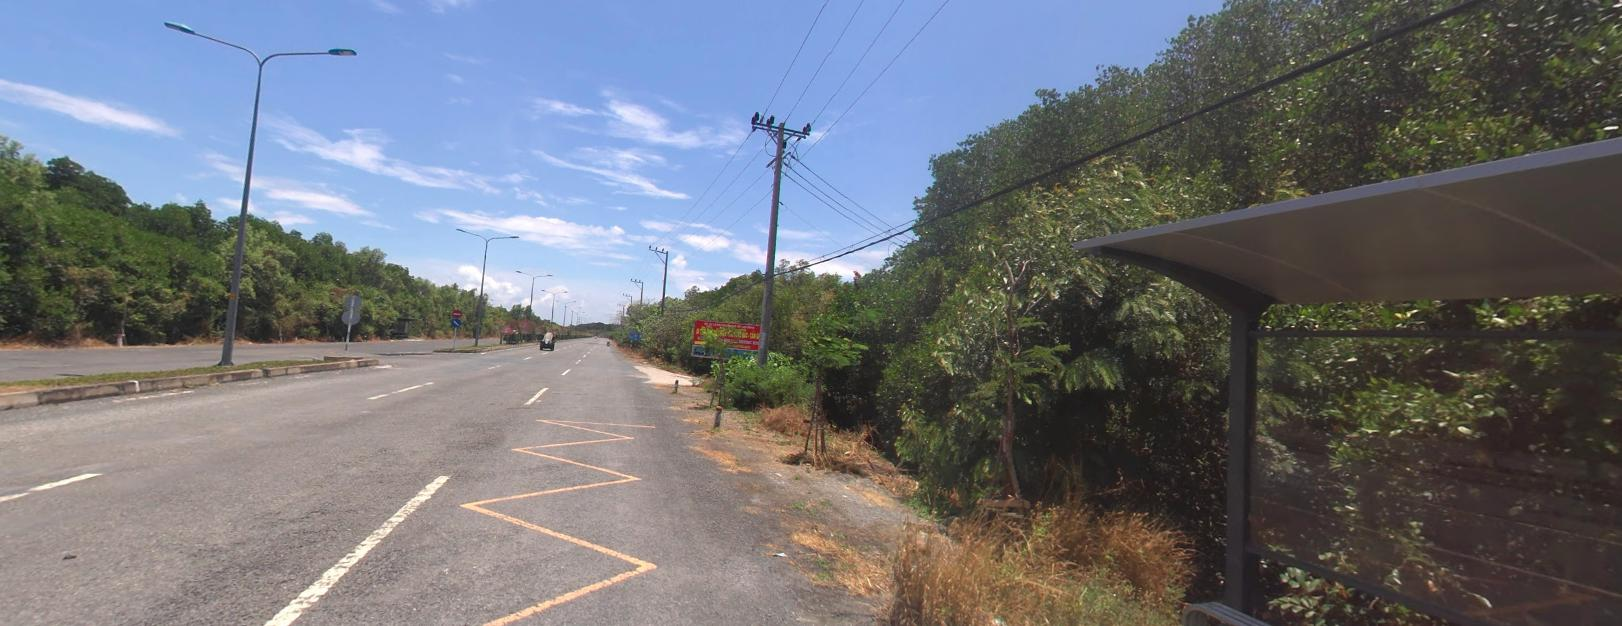Cam nguoc chieu: (452, 308, 461, 316)
Hieu lenh: (451, 316, 460, 324)
